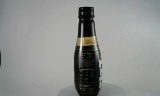appyfizz: (67, 6, 96, 95)
